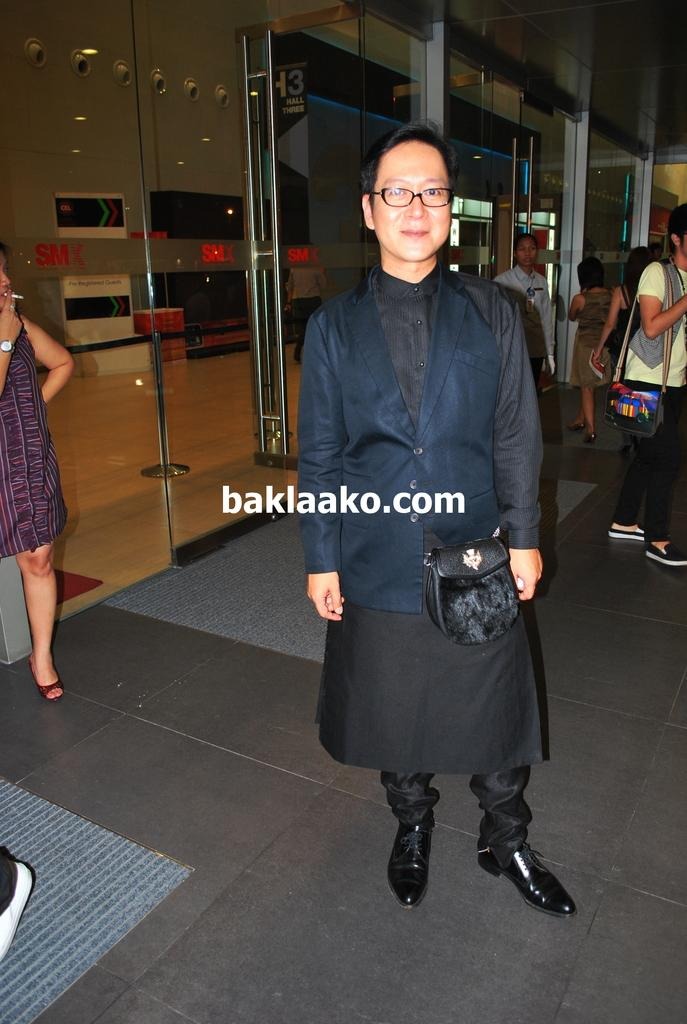Luggage-and-bags: (604, 264, 671, 442), (426, 533, 522, 653), (587, 345, 626, 381)
